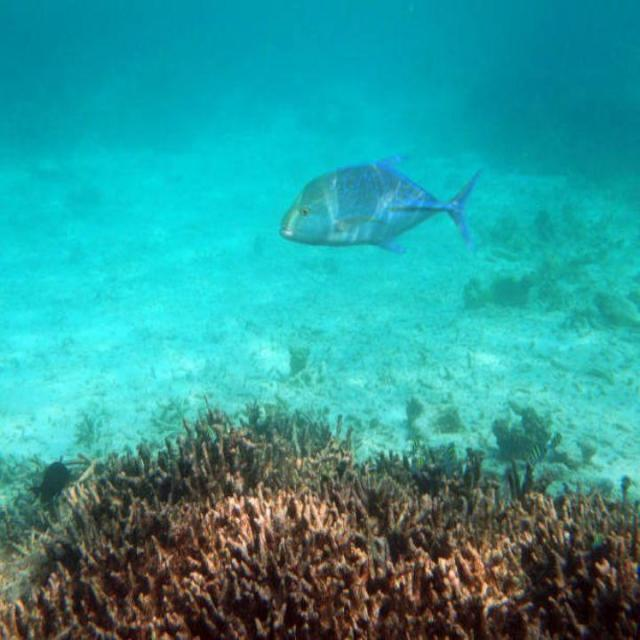Dead Coral: (26, 431, 631, 637)
